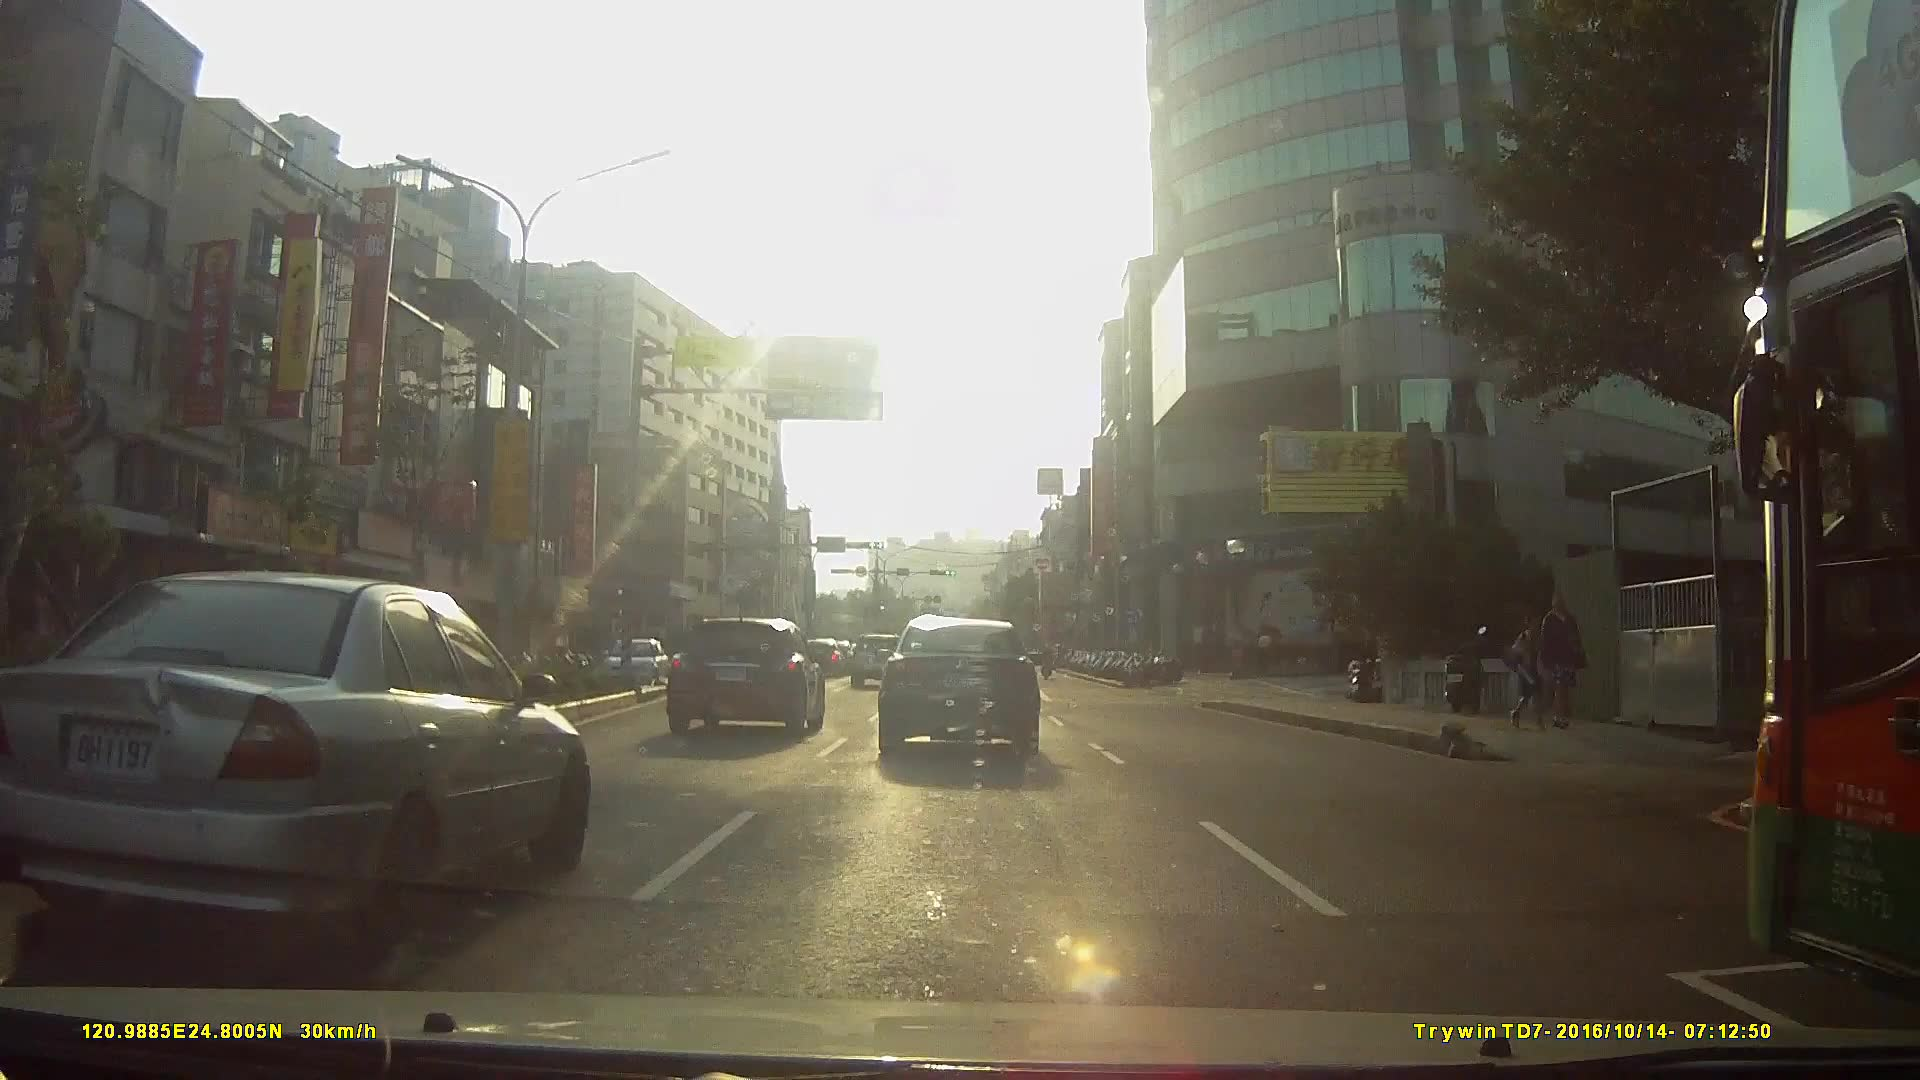pedestrian: (1530, 588, 1585, 726), (1505, 609, 1557, 728)
vehicle: (0, 567, 590, 954), (873, 613, 1040, 759), (663, 614, 825, 736), (600, 633, 670, 688), (845, 629, 905, 685)
